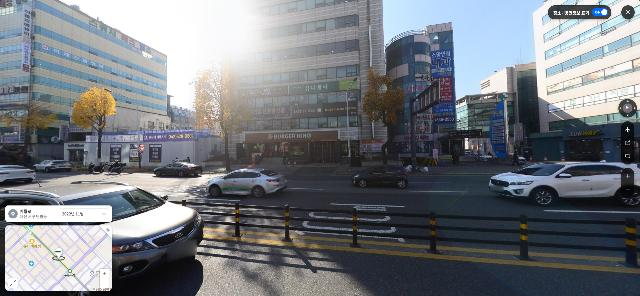ginkgo: (191, 60, 250, 172), (358, 65, 409, 164), (2, 96, 61, 165), (69, 88, 117, 166)
